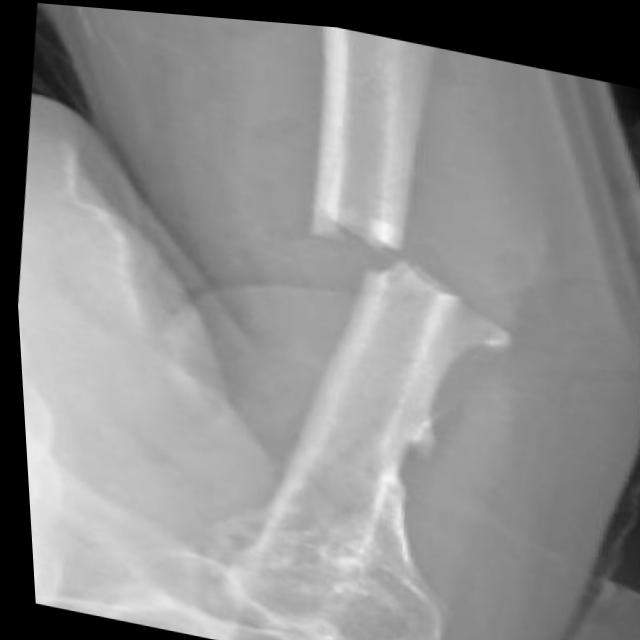fracture: (273, 201, 482, 309)
